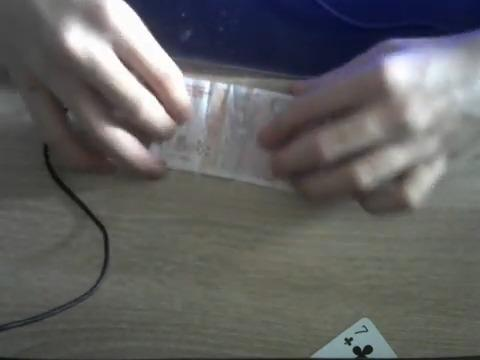5leva: (165, 76, 292, 187)
